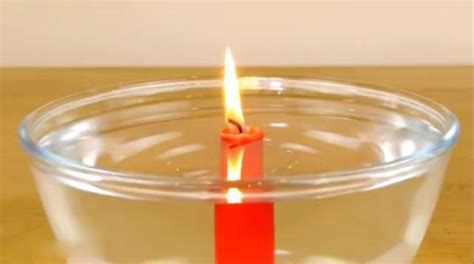Fire: (208, 45, 261, 143)
